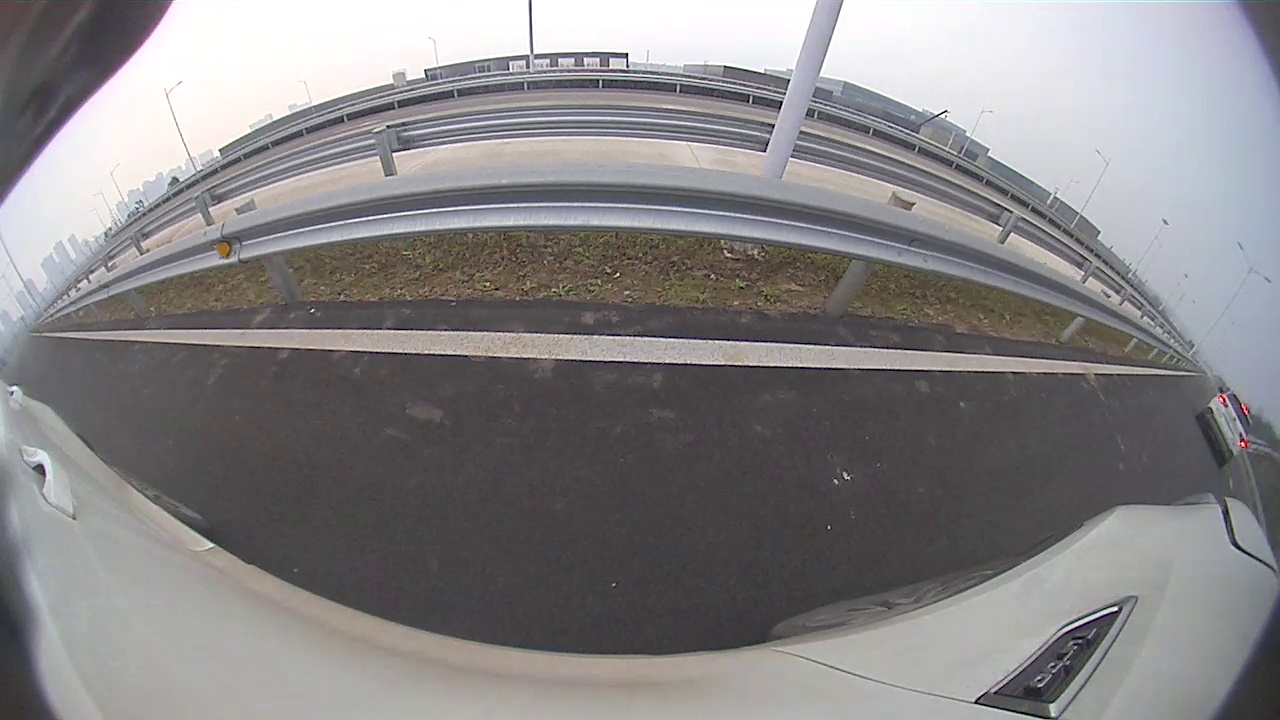car: (1195, 386, 1253, 469)
